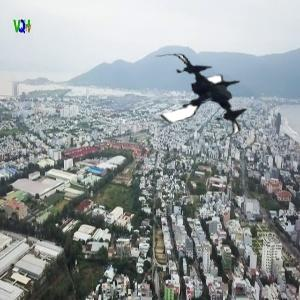drone: (145, 45, 251, 151)
